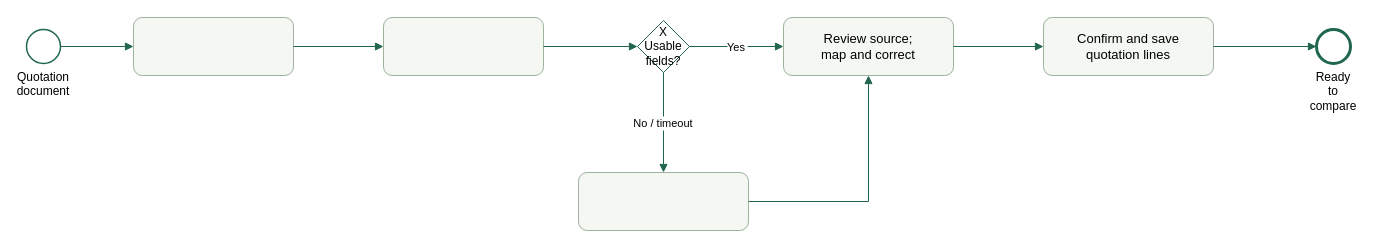
This 1374x248 diagram has some shape labels left out. Here are the shapes that lost their labels. From the top down, the box of each, then its label:
(132, 16, 294, 76): Upload and validate file
(382, 16, 544, 76): Extract fields: PDF text or AI
(578, 172, 748, 230): Enter missing fields manually
